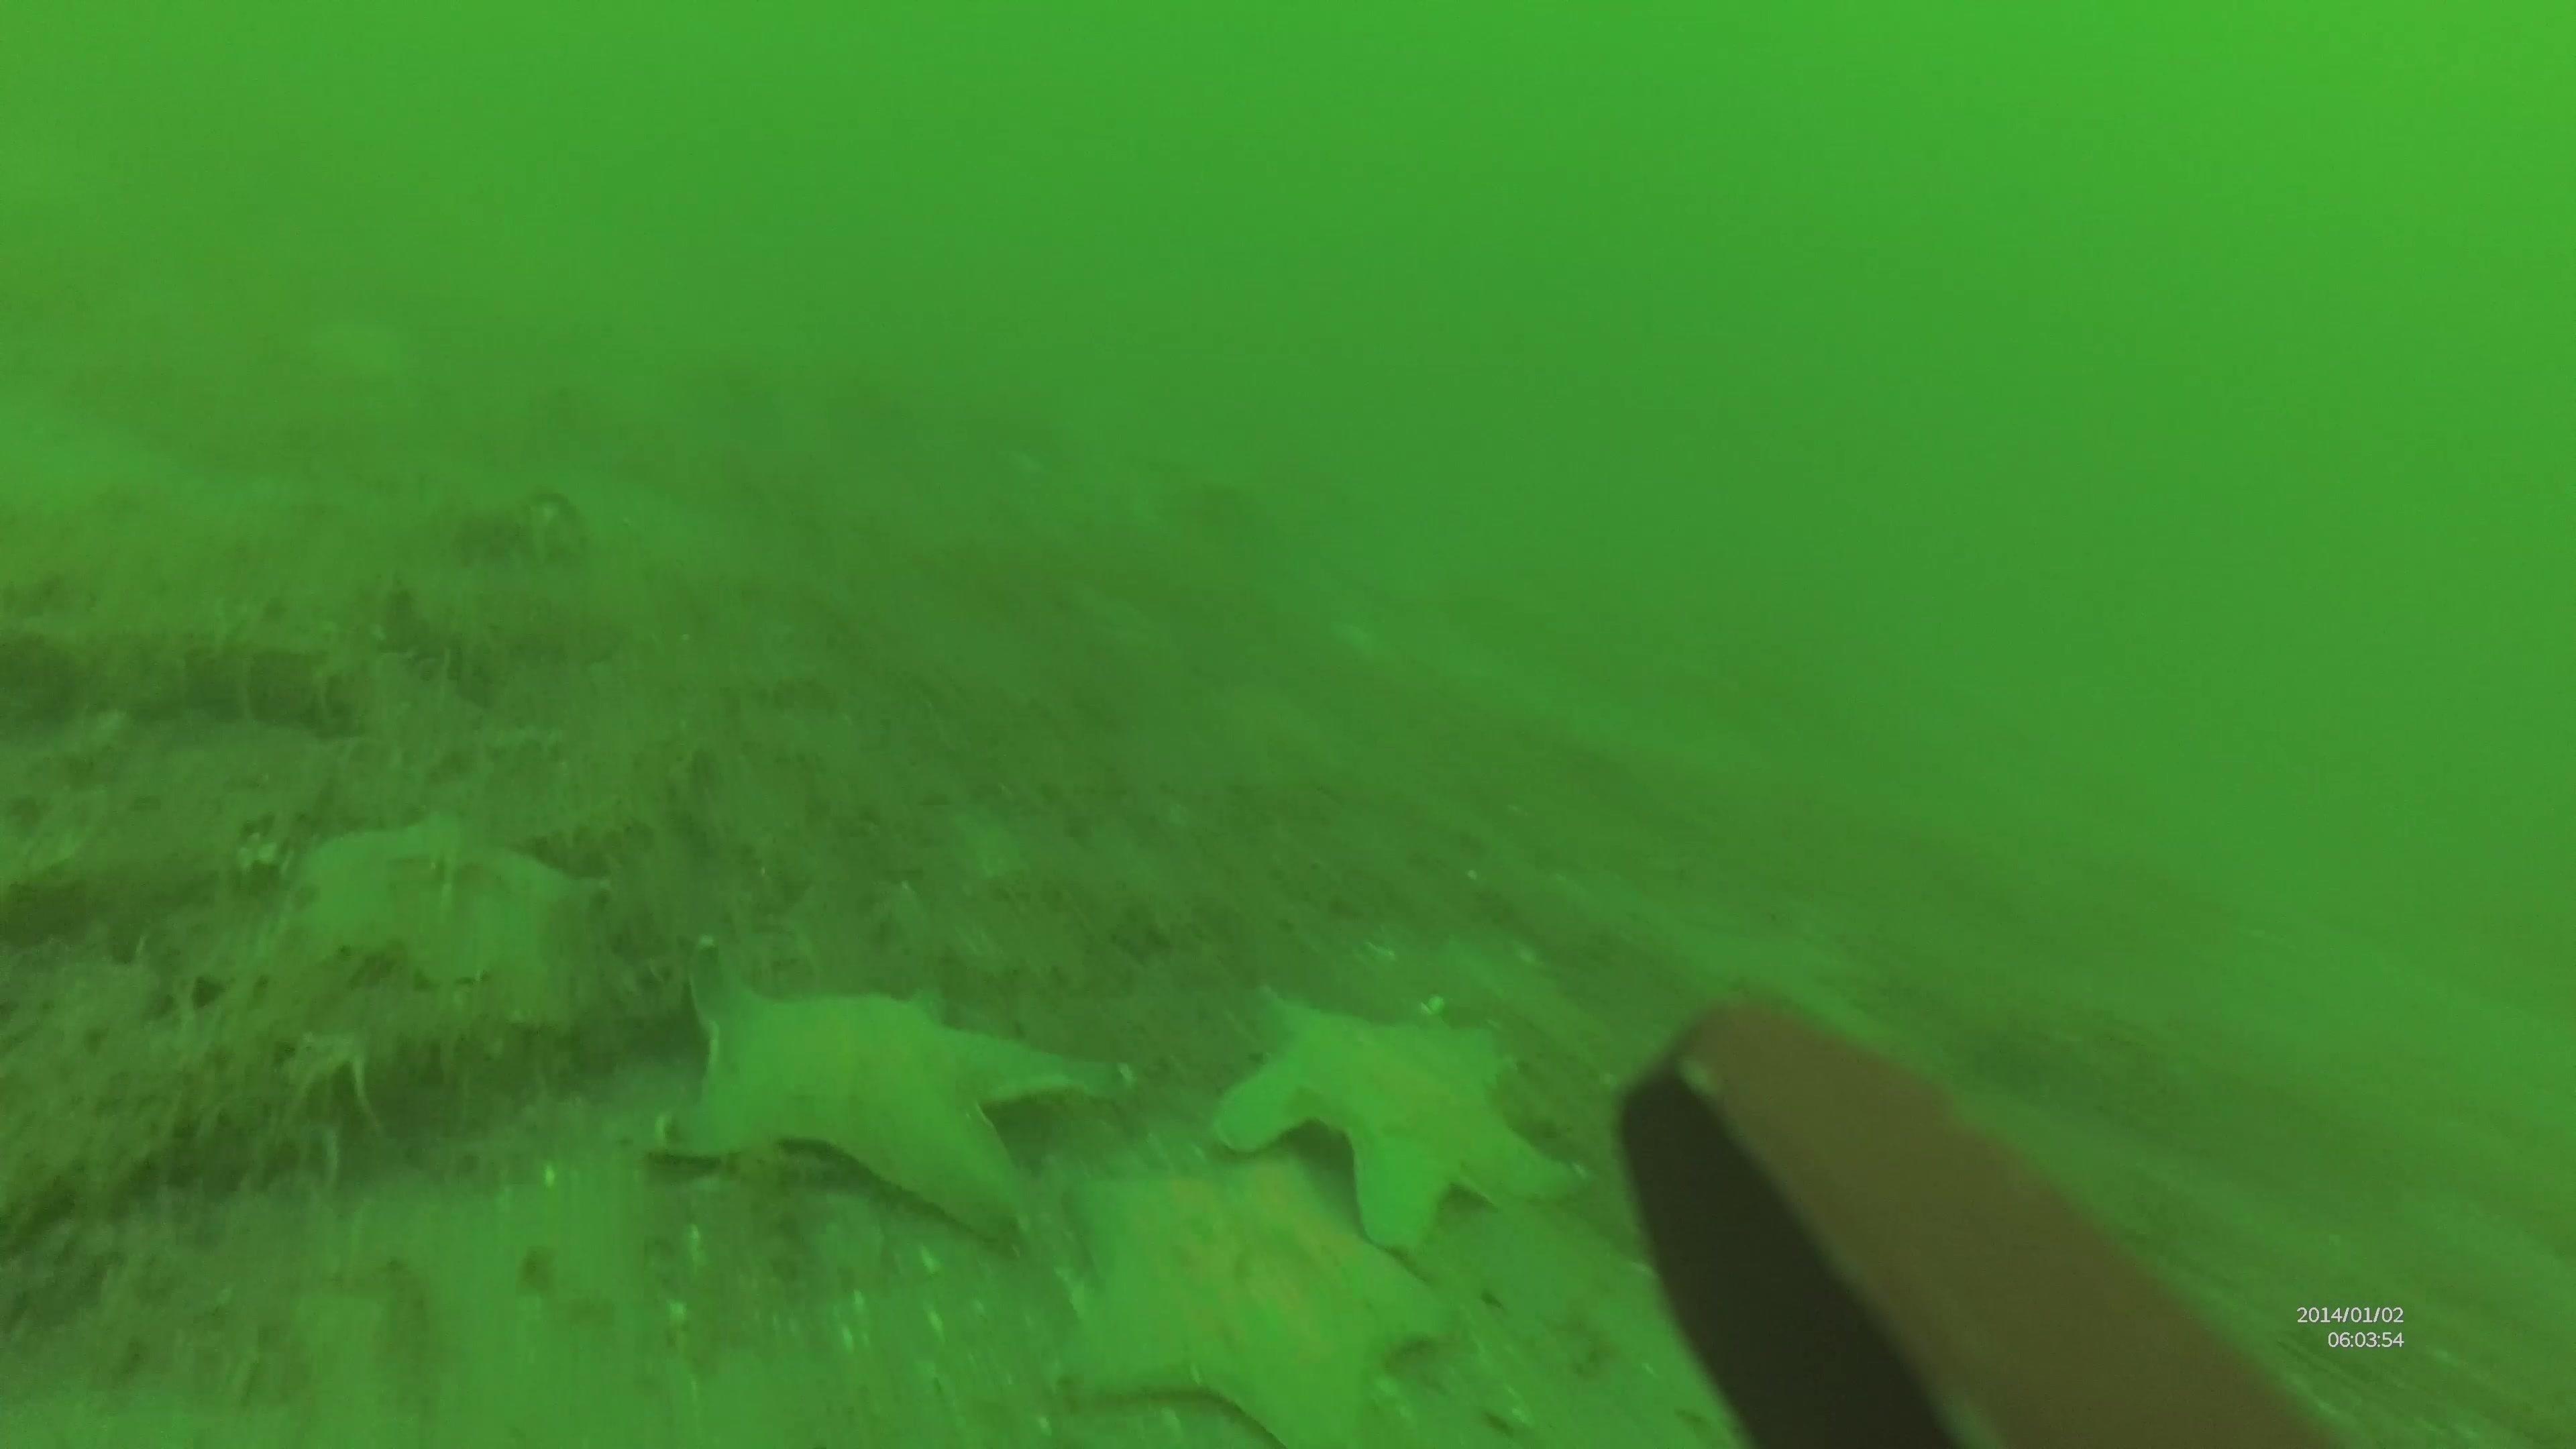holothurian: (4, 594, 361, 738)
starfish: (649, 957, 1123, 1249), (1040, 1145, 1447, 1449), (1205, 987, 1580, 1265), (281, 817, 616, 1014)
